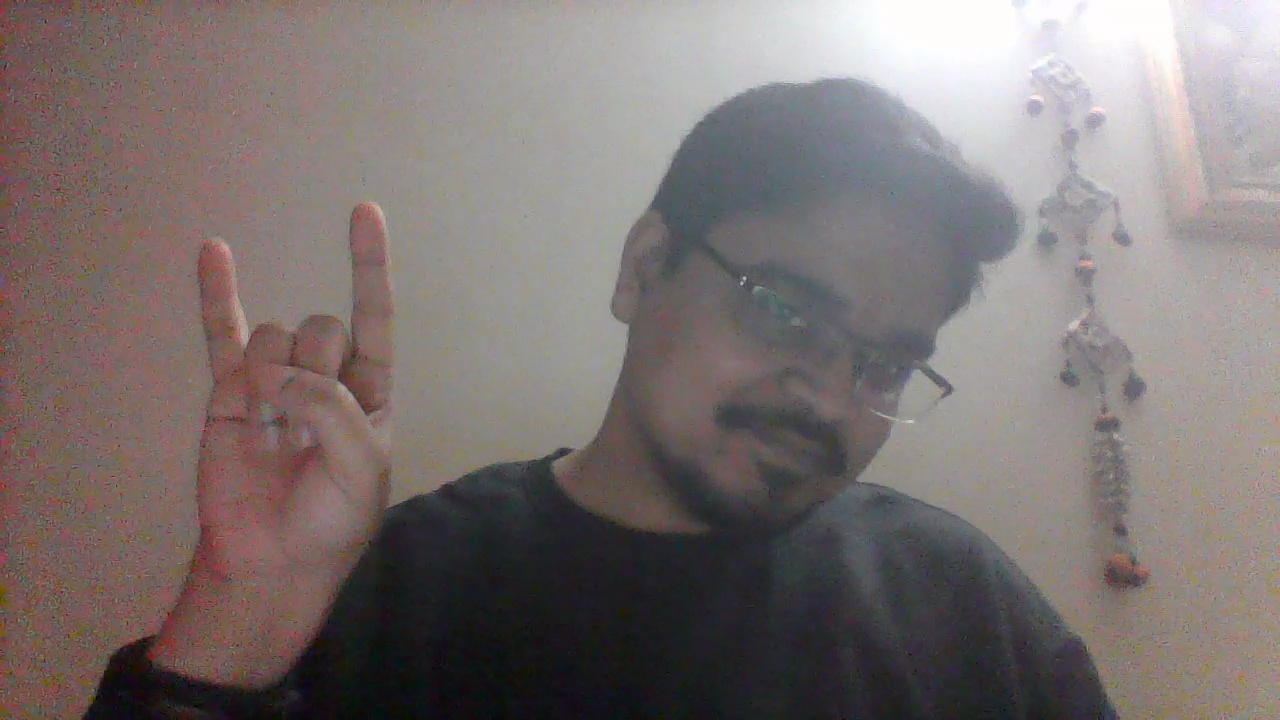ILoveYou: (194, 194, 393, 631)
